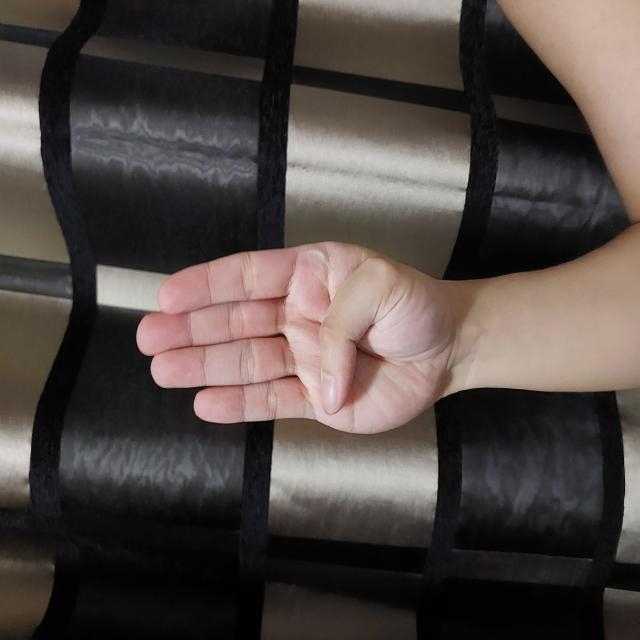B: (204, 135, 400, 457)
